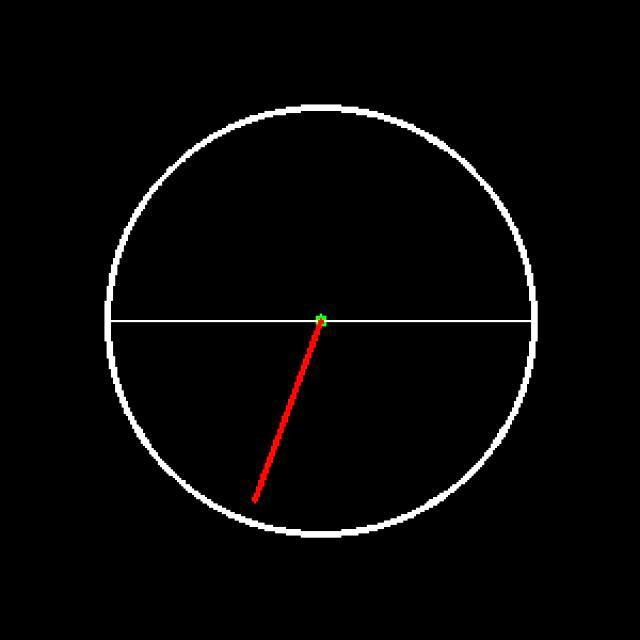Needle_Tip: (235, 468, 276, 515)
Needle_base: (284, 298, 357, 360)
